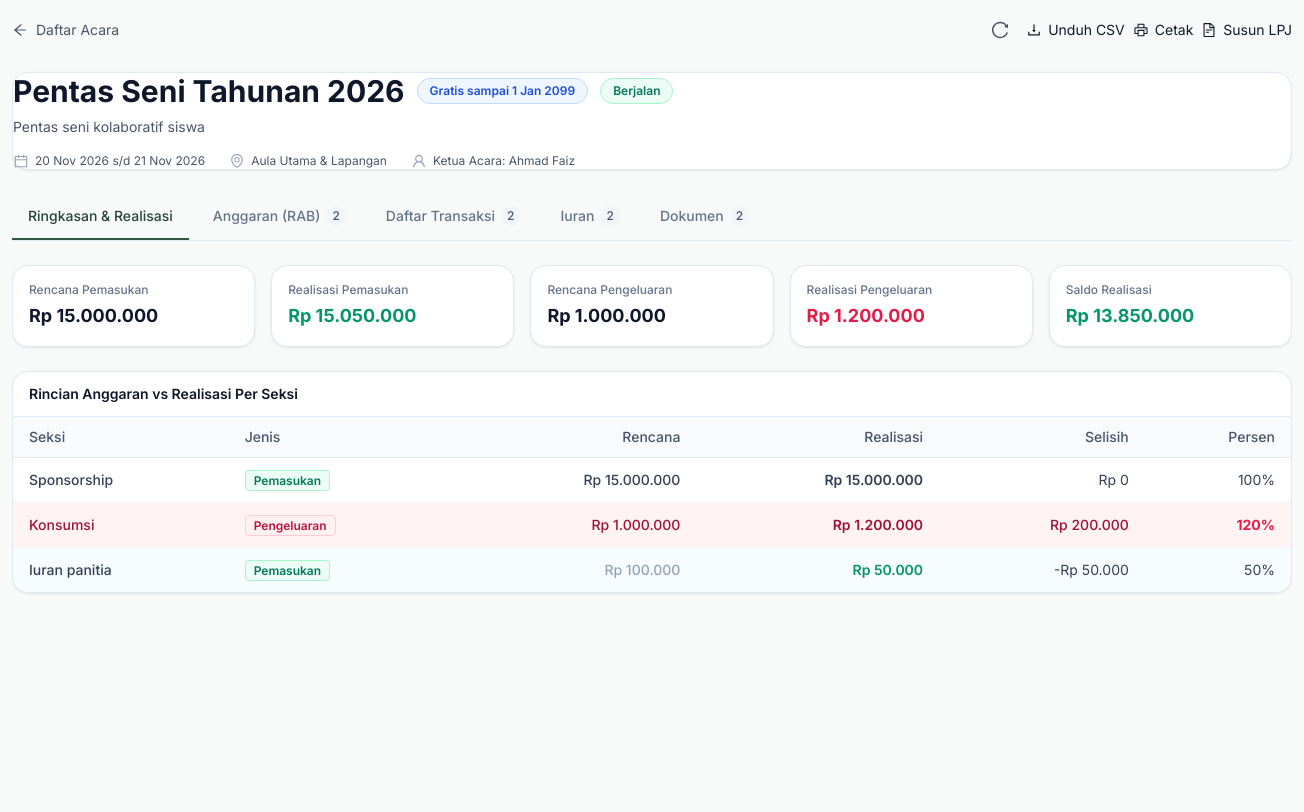
Test: PANITIA-1.7: ProgramDetail Page › PANITIA-2.3: Tab Iuran di ProgramDetail › tombol tulis tersembunyi untuk anggota biasa
Check: the heading "Pentas Seni Tahunan 2026" is shown, box x1=13 y1=73 x2=405 y2=109
Click the button "Iuran 2": click(590, 217) x1=544 y1=194 x2=636 y2=240
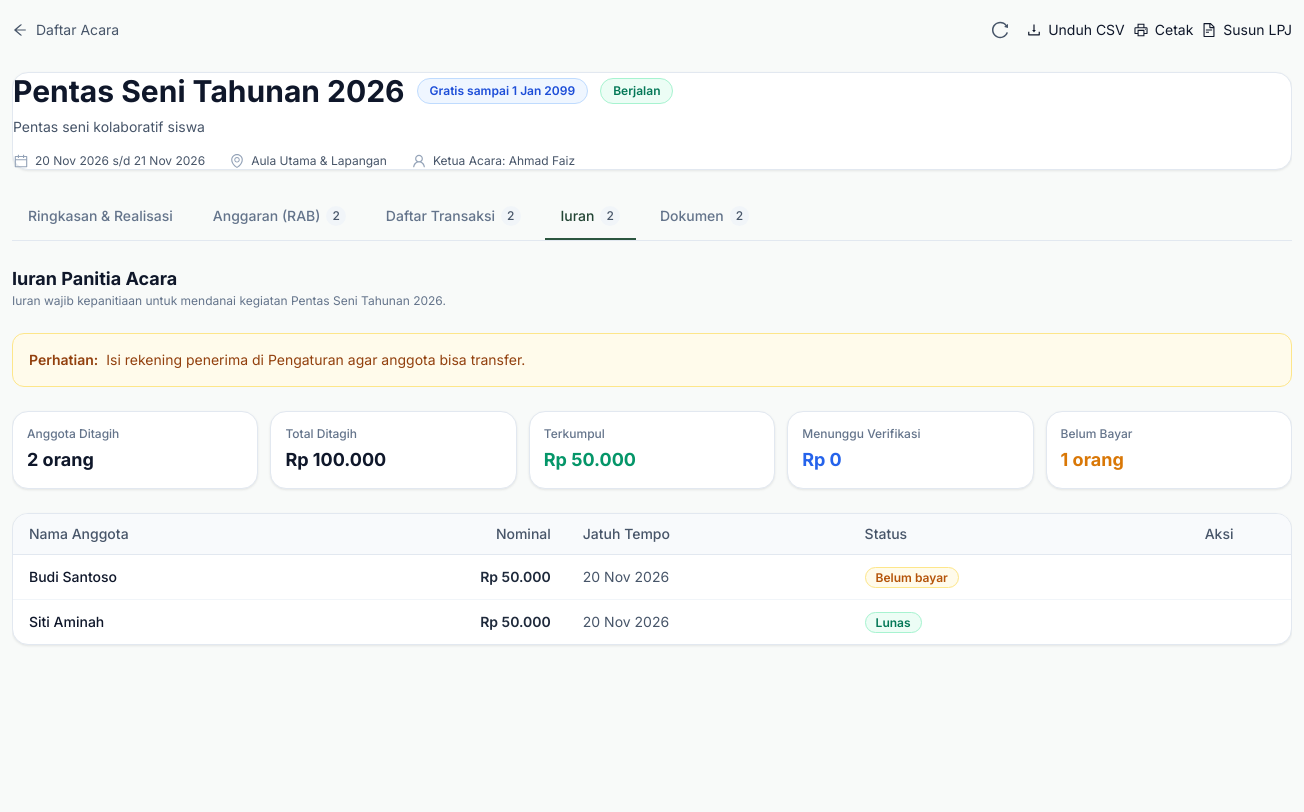
Check: the text "Budi Santoso" is shown, box x1=29 y1=568 x2=117 y2=585
